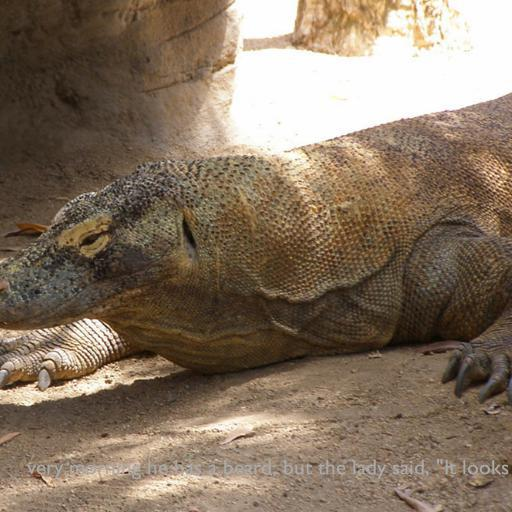Gill Sans: (27, 459, 509, 480)
